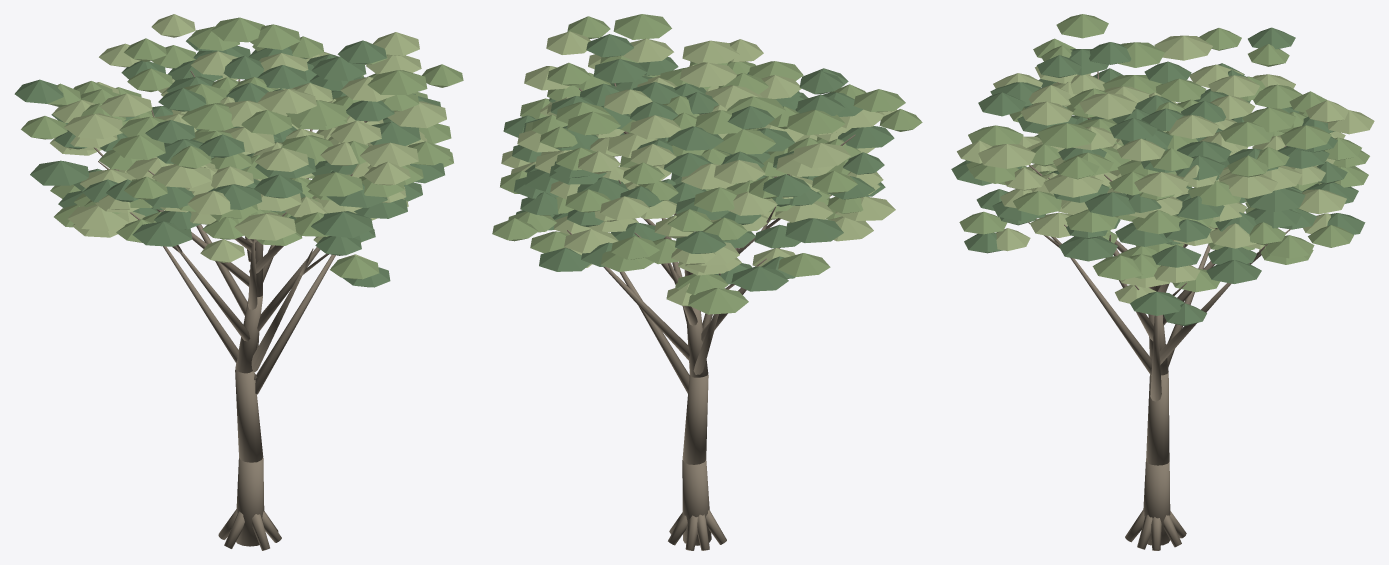
Rendered from deciduous-tree.glb.
3 views of the same model, side by side, from view 1: azimuth 30°, elevation 25°; view 2: azimuth 150°, elevation 25°; view 3: azimuth 270°, elevation 25° (orthographic). The views are drawn at different scales.
Parts seen in each view (by area): view 1: deciduous-tree; view 2: deciduous-tree; view 3: deciduous-tree.
Boxes of the visible parts, <box> form: deciduous-tree: <box>14,14,463,550</box>; deciduous-tree: <box>492,14,922,550</box>; deciduous-tree: <box>951,14,1374,550</box>.
Bounding box in the file's own units: 5.36 × 6.53 × 5.33.
